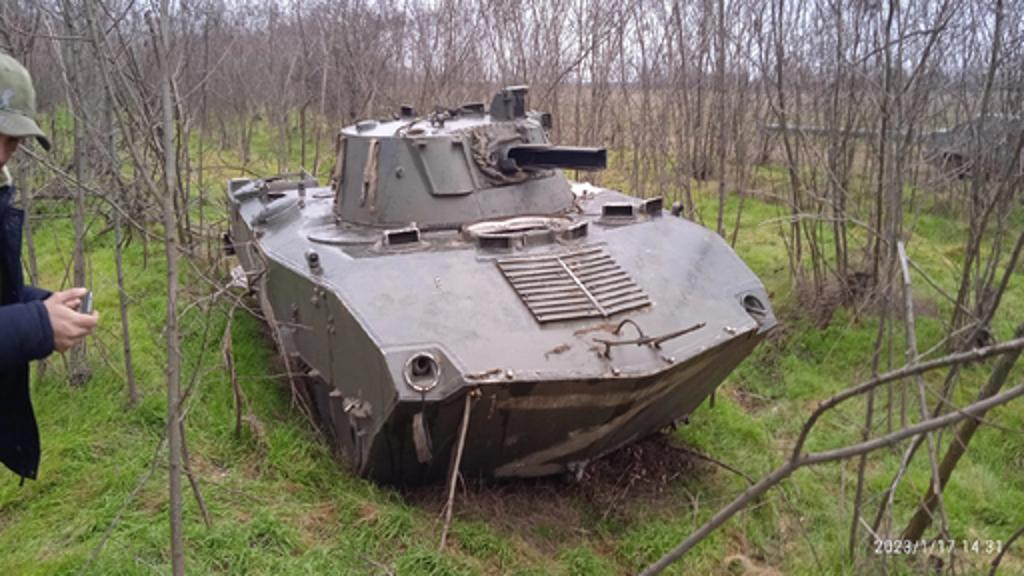APC-IFV: (206, 94, 790, 512)
